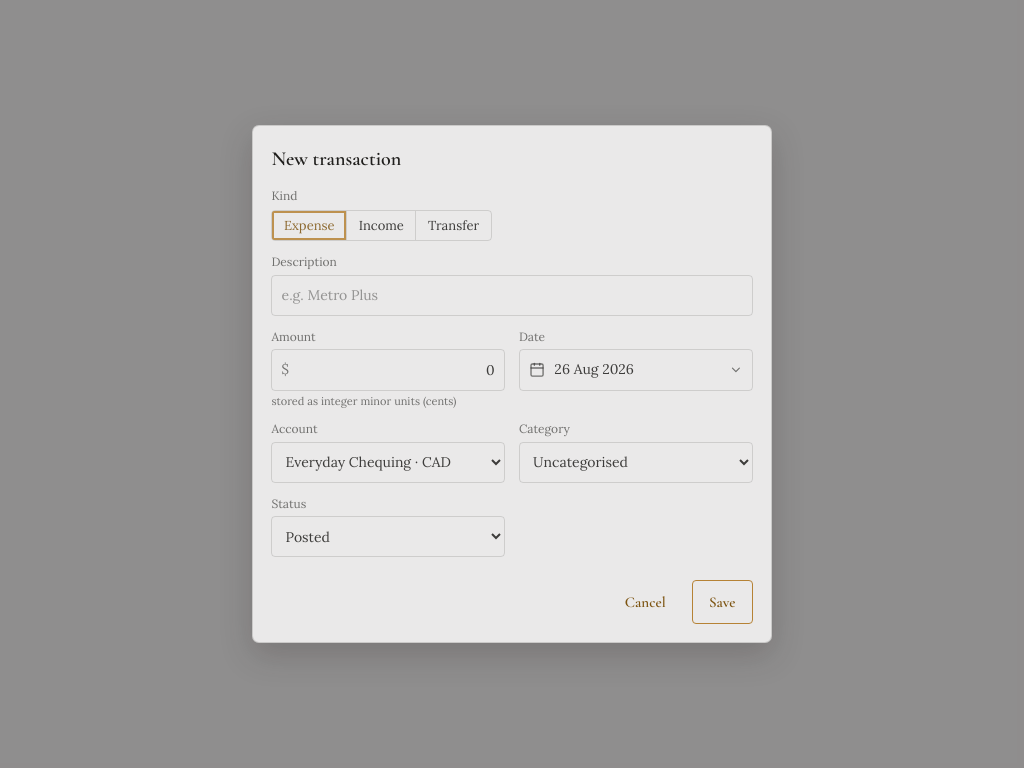
a cross-currency transfer is refused before it is sent
Click the radio button labelled "Transfer": (453, 226) [415,211,491,240]
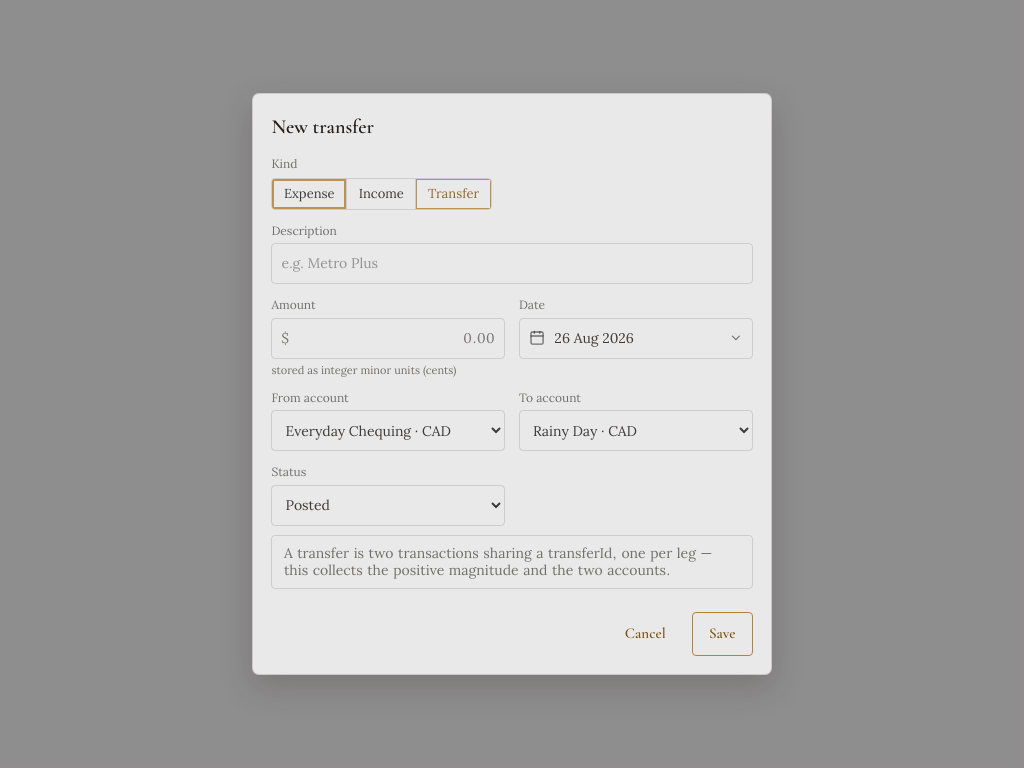
Select "USD Savings · USD" in the dropdown labelled "To account": (636, 431) [519,410,753,451]
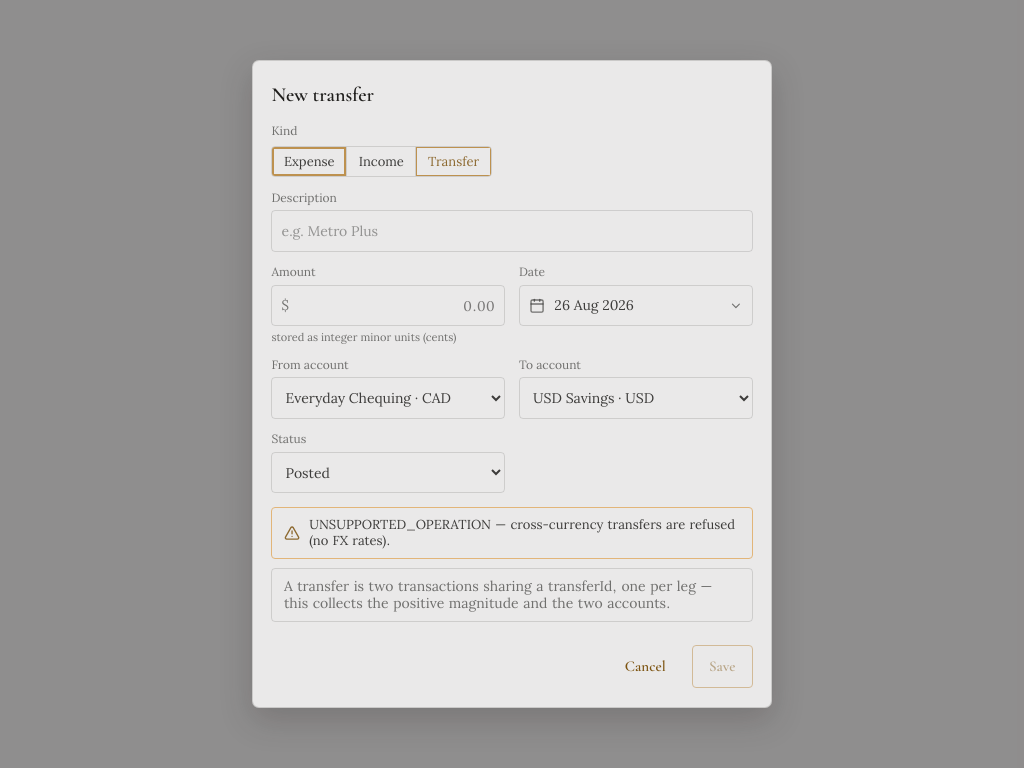
Expected: the text "cross-currency transfers are refused" is shown, [309,516,735,549]
Expected: the button "Save" is disabled, [692,645,753,688]
